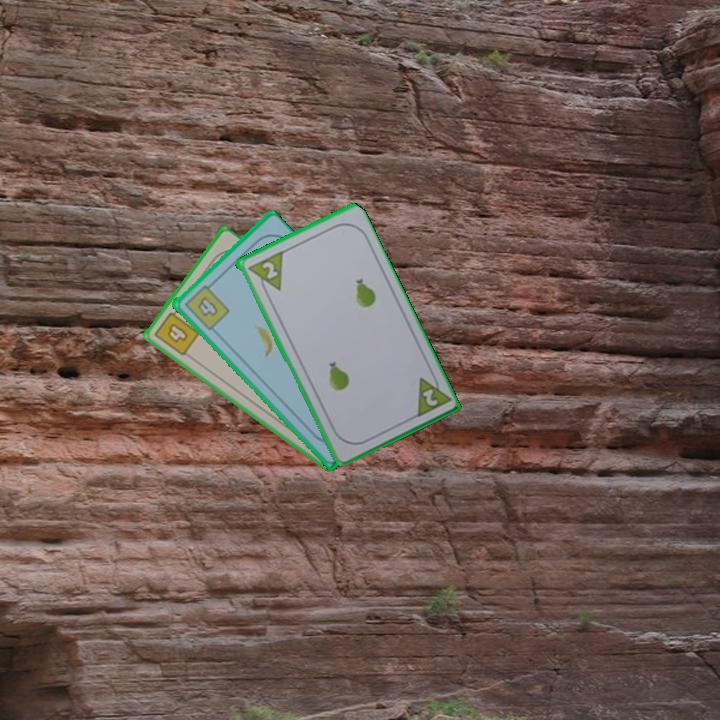2p: (410, 368, 452, 421), (244, 248, 286, 299)
4b: (150, 304, 202, 359), (180, 278, 232, 333)
